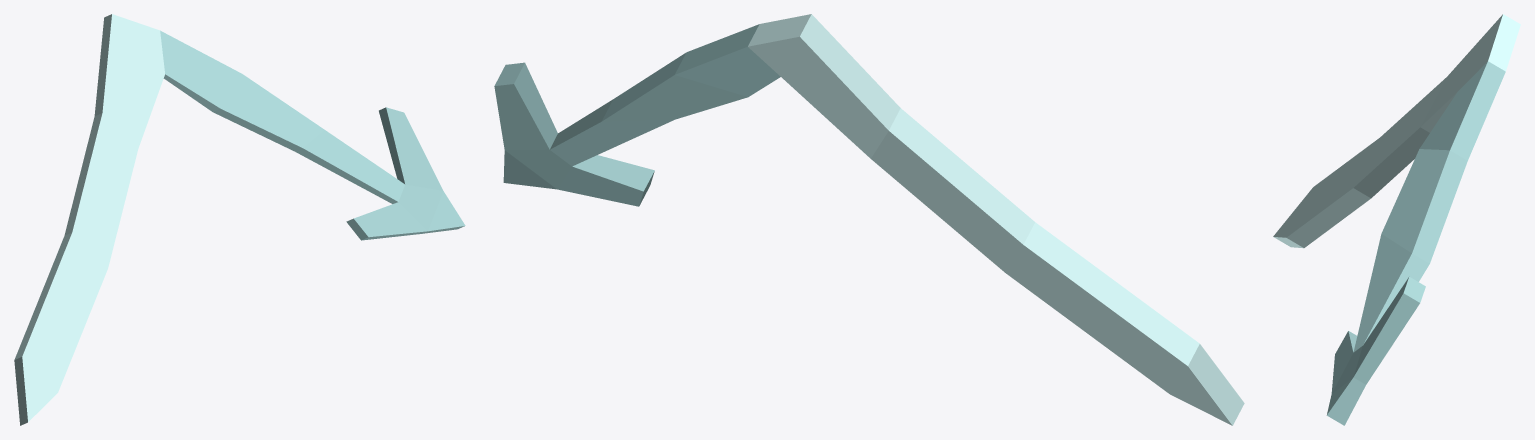
The model's file is double_edged_blade.glb.
3 views of the same model, side by side, from view 1: azimuth 30°, elevation 25°; view 2: azimuth 150°, elevation 25°; view 3: azimuth 270°, elevation 25° (orthographic). The views are drawn at different scales.
Parts seen in each view (by area): view 1: Cube; view 2: Cube; view 3: Cube.
Part boxes in pixels (box(x1,y1,x2,y2)): Cube: box(14, 14, 465, 425); Cube: box(494, 14, 1244, 425); Cube: box(1273, 14, 1520, 425).
Size of the model in its own units: 4.8 by 2.96 by 1.98.
1 material, 1 textured.
